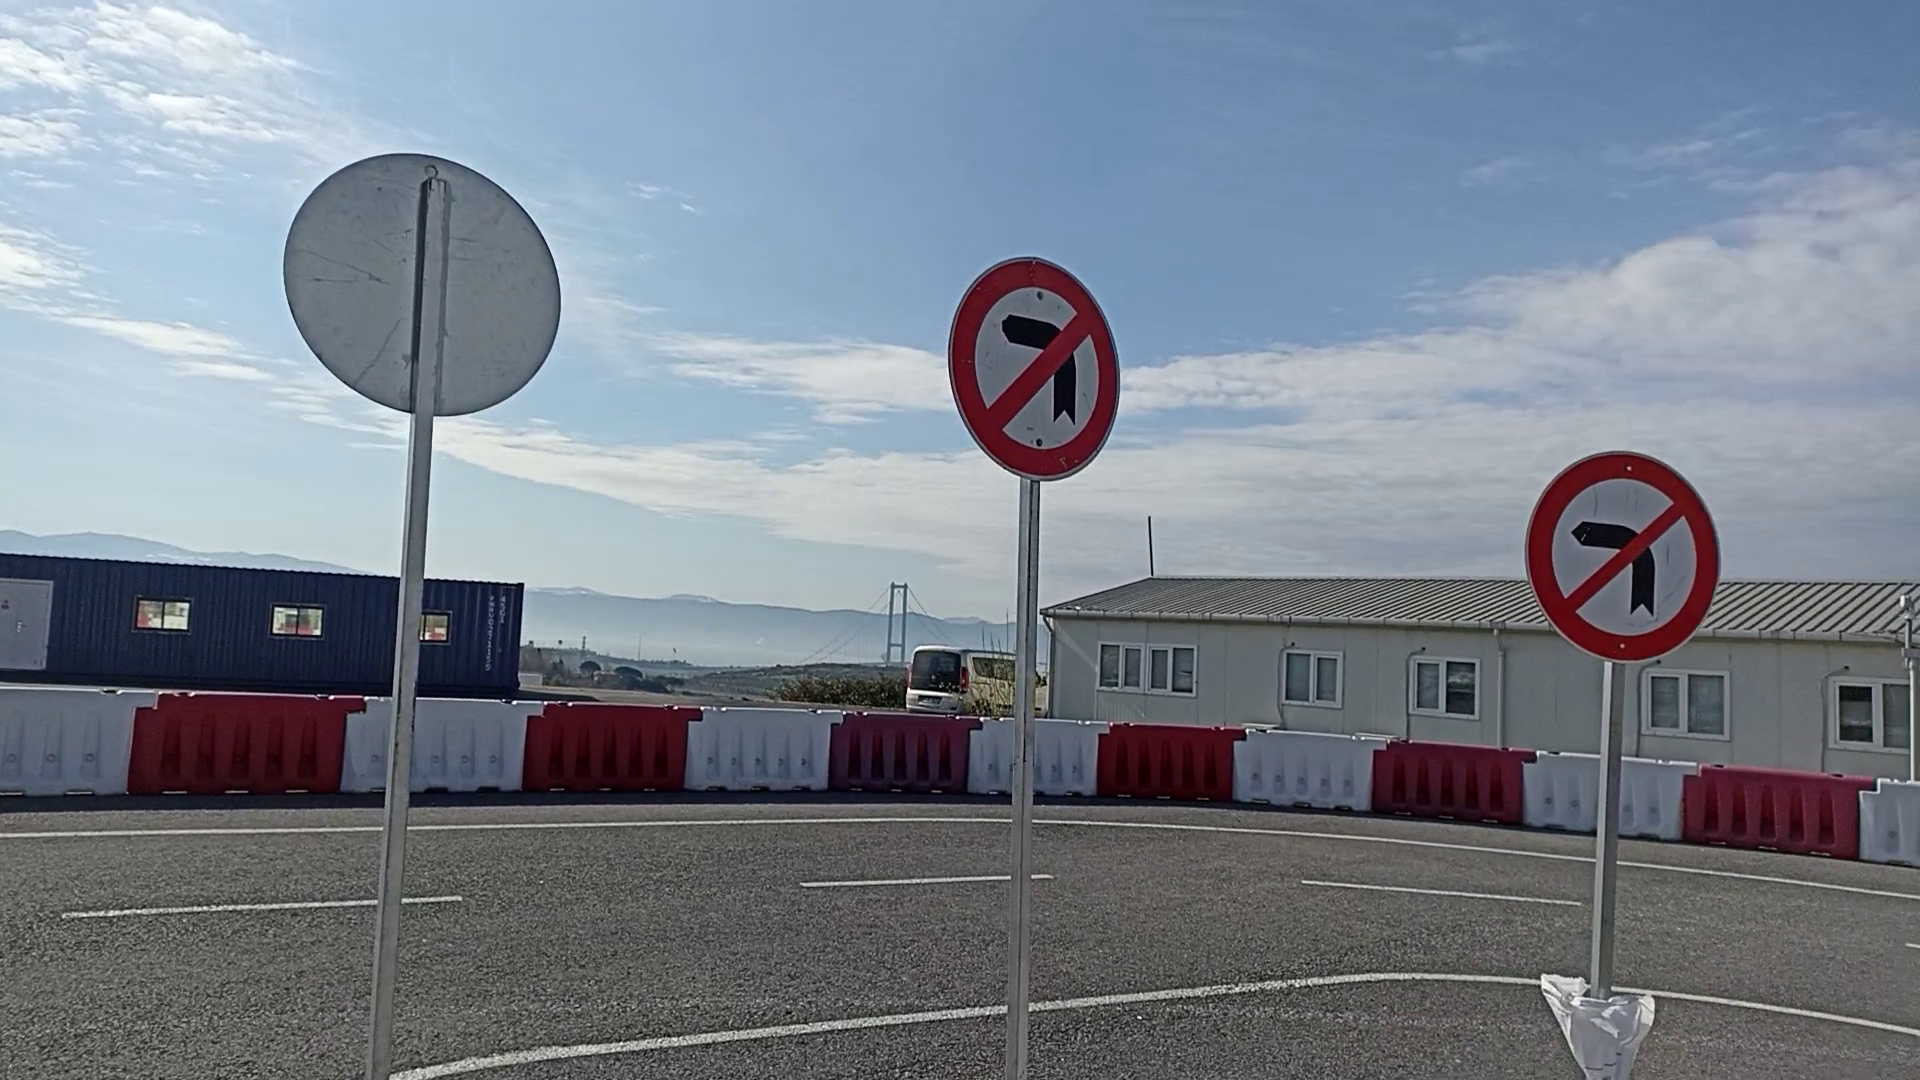noleft: (1523, 448, 1724, 666), (945, 256, 1126, 484)
